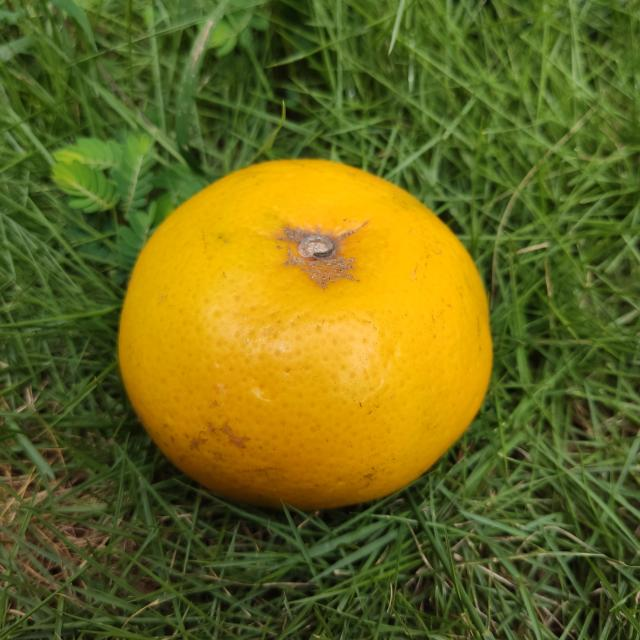orange: (109, 155, 492, 509)
